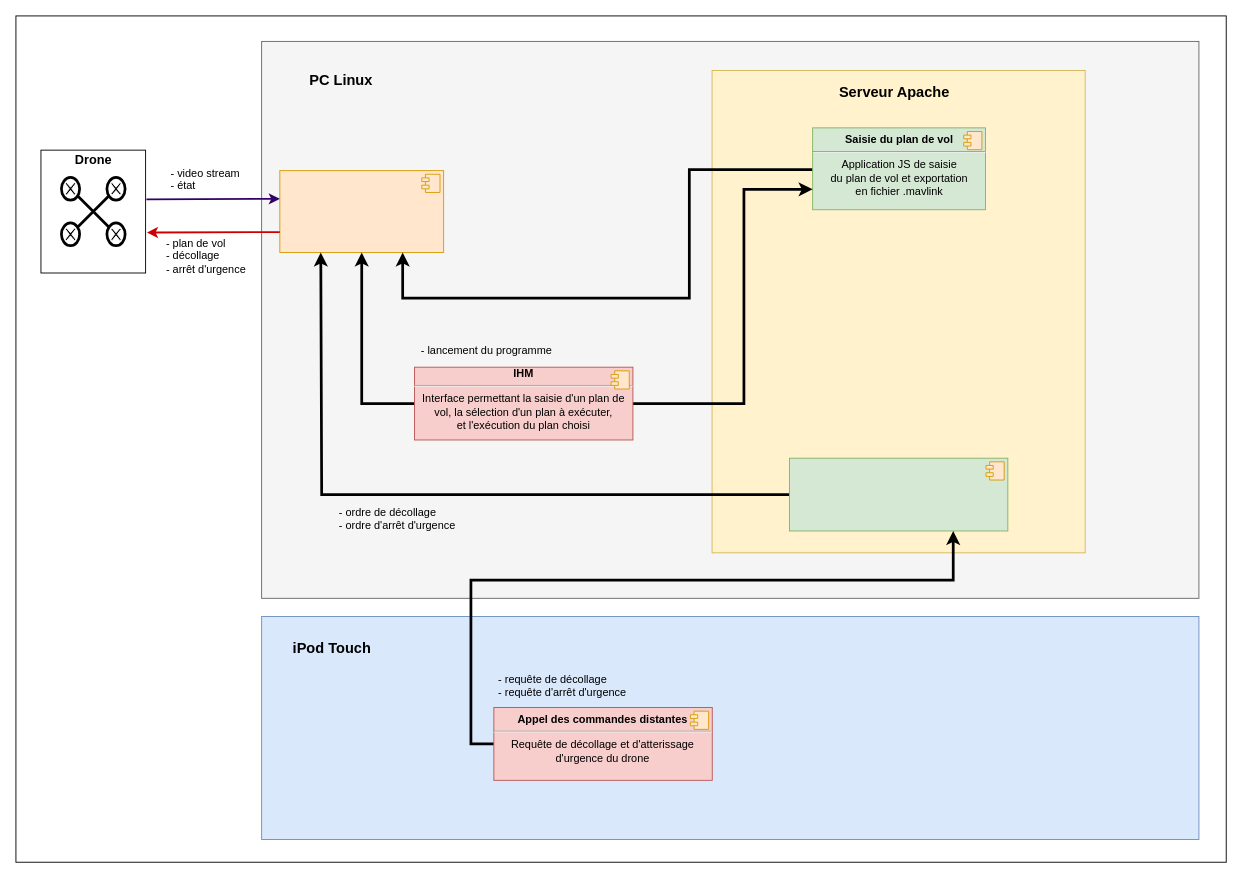
This 1242x878 diagram has some shape labels left out. The shapes that lost their labels are listed below. From the top down, each one's box as (x1, y1, x2, y2) in pixels, then its label:
(279, 170, 444, 253): Contrôleur du drone Code C intéragissant avec le drone grâce au SDK parrot
(789, 457, 1008, 531): Commandes distantes Requête de décollage et d'atterissage d'urgence du drone
